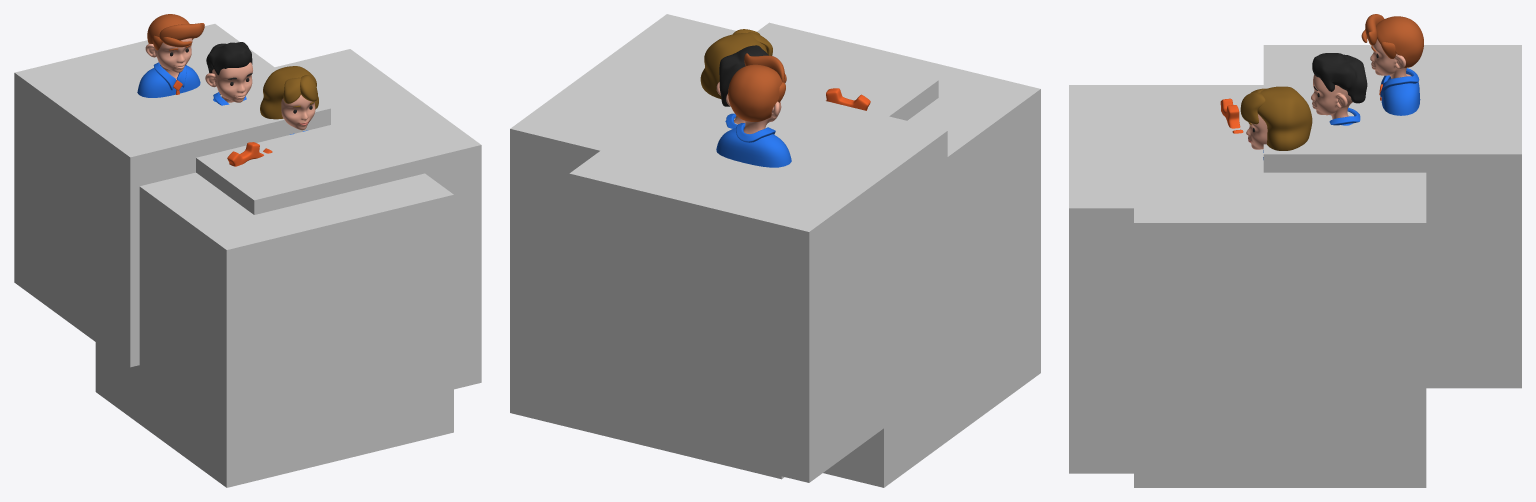
The model's file is management-team-3d-animated-icon-1584317304184.glb.
3 views of the same model, side by side, from view 1: azimuth 30°, elevation 25°; view 2: azimuth 150°, elevation 25°; view 3: azimuth 270°, elevation 25° (orthographic). The views are drawn at different scales.
Visible parts, largest first — view 1: mate 2, mate 1, mate 3, hair 3, hair 1, cloth 1, body 2, hair 2, body 1, body 3, gear; view 2: mate 1, mate 2, mate 3, hair 1, cloth 1, hair 3, hair 2; view 3: mate 3, mate 1, mate 2, hair 3, hair 1, hair 2, cloth 1, body 2, body 1, body 3, gear.
Part boxes in pixels (x1,y1,x2,y2): mate 2: (95,172,453,487); mate 1: (14,24,330,367); mate 3: (196,49,481,389); hair 3: (260,66,318,119); hair 1: (147,14,204,50); cloth 1: (137,62,200,97); body 2: (205,62,252,102); hair 2: (206,42,252,75); body 1: (145,38,192,79); body 3: (281,95,315,130); gear: (227,142,272,166); mate 1: (569,78,947,482); mate 2: (757,22,1040,487); mate 3: (510,14,938,479); hair 1: (728,53,786,121); cloth 1: (716,123,791,167); hair 3: (700,29,772,98); hair 2: (719,45,768,106); mate 3: (1134,99,1426,487); mate 1: (1263,45,1521,388); mate 2: (1069,85,1263,473); hair 3: (1240,86,1312,150); hair 1: (1361,14,1423,67); hair 2: (1312,53,1367,103); cloth 1: (1380,68,1420,115); body 2: (1311,74,1352,119); body 1: (1370,39,1411,78); body 3: (1246,114,1267,149); gear: (1220,98,1243,133).
Bounding box in the file's own units: 5.74 × 6.41 × 6.89.
